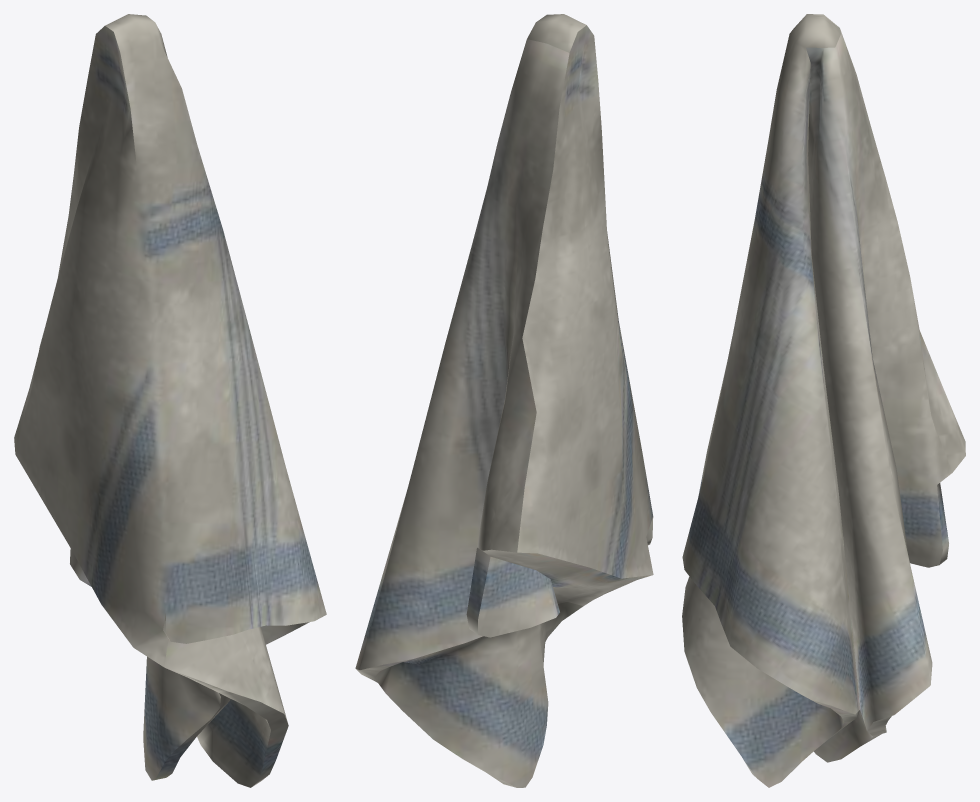
Rendered from towel.glb.
3 renders of one model, left to right at view 1: azimuth 30°, elevation 25°; view 2: azimuth 150°, elevation 25°; view 3: azimuth 270°, elevation 25°, orthographic. The views are drawn at different scales.
Parts seen in each view (by area): view 1: Towel_A; view 2: Towel_A; view 3: Towel_A.
Part boxes in pixels (left/top/right/bottom): Towel_A: left=14, top=14, right=326, bottom=787; Towel_A: left=355, top=14, right=653, bottom=787; Towel_A: left=682, top=14, right=965, bottom=787.
Size of the model in its own units: 0.1988 by 0.6531 by 0.2318.
Materials: 1 (1 with a texture image).
